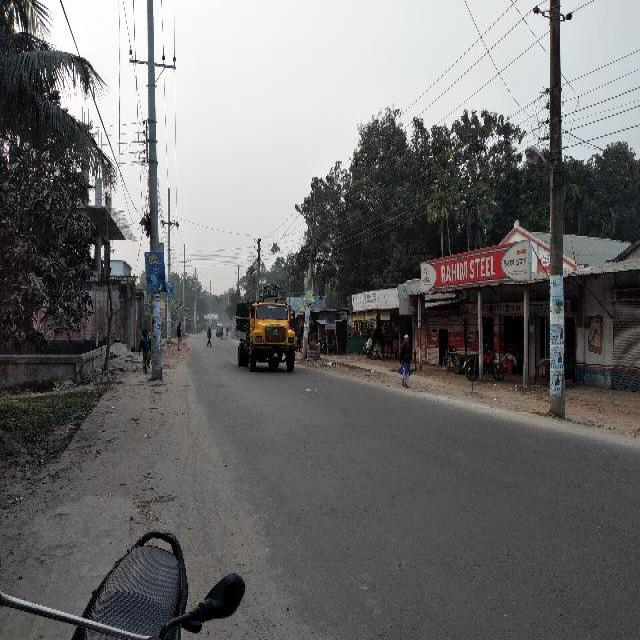bike: (2, 511, 252, 640), (462, 344, 506, 383), (322, 340, 344, 355), (227, 326, 230, 338)
vehicle: (235, 284, 300, 374), (216, 324, 224, 340)
